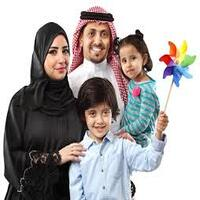person: (73, 77, 130, 147), (70, 4, 127, 69), (32, 18, 77, 82), (119, 29, 153, 81)
